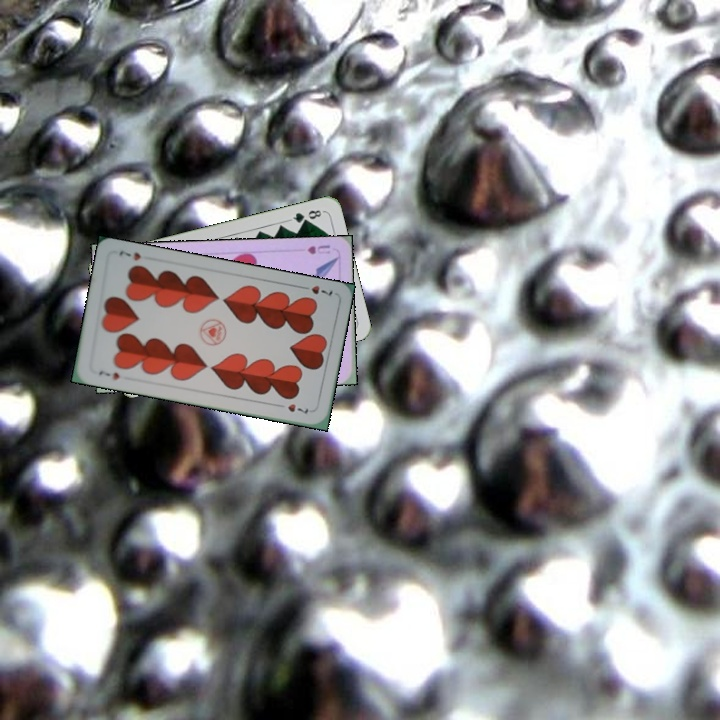G8: (286, 206, 326, 225)
H7: (296, 281, 335, 298), (95, 367, 122, 383)
HU: (304, 241, 332, 257)
